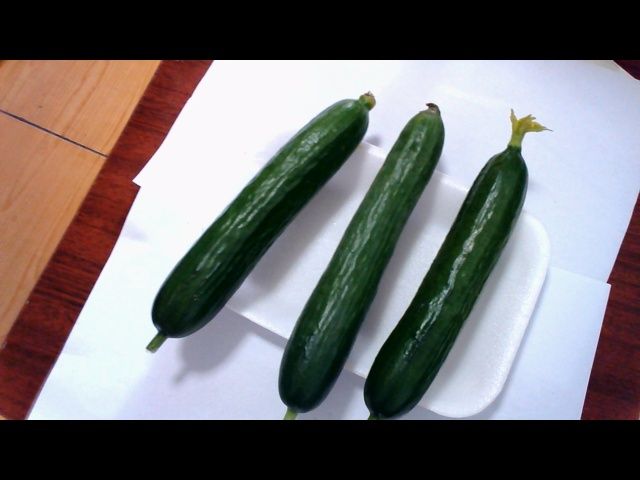cucumber: (288, 107, 546, 413), (161, 72, 334, 387)
